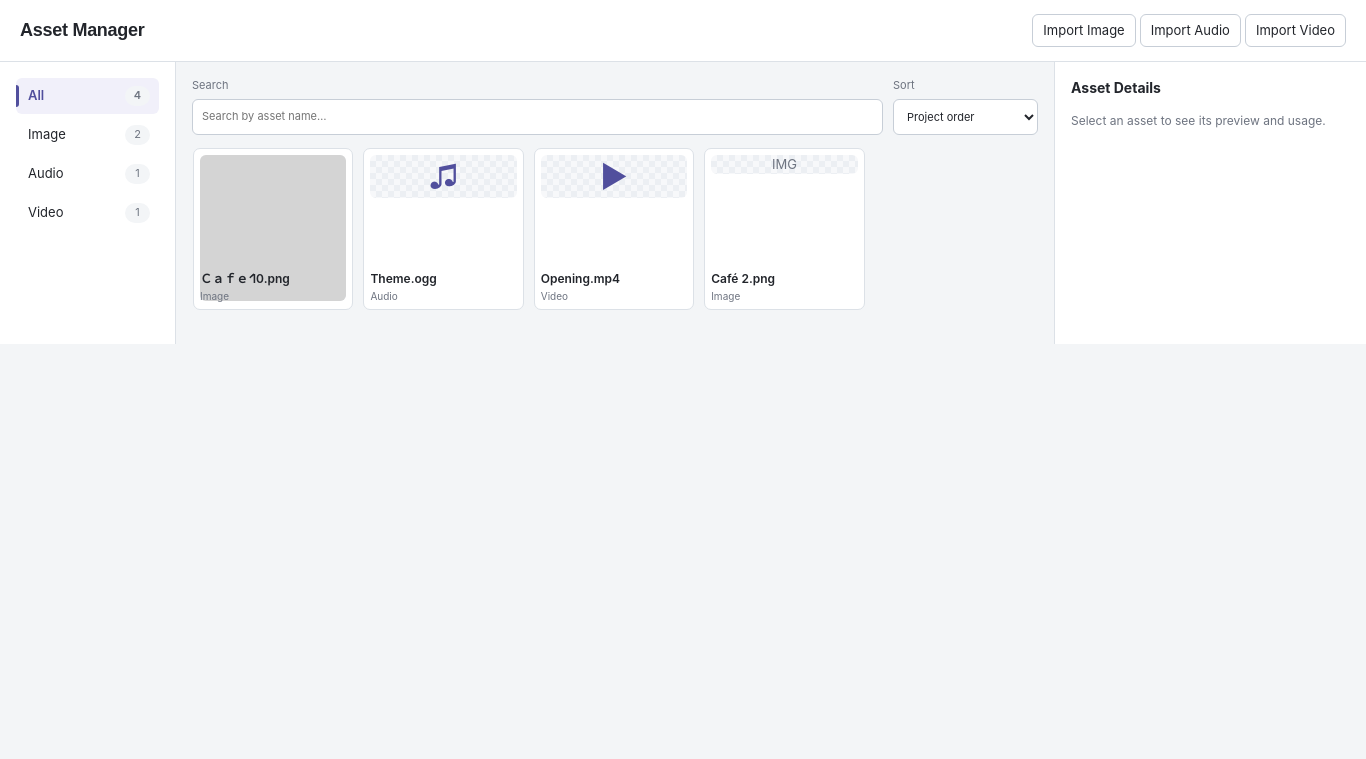
Test case: AssetManager › opens a card context menu at the pointer and focuses the existing rename input
The image size is (1366, 759).
Right-click the button "Ｃａｆｅ́ 10.png Image".
right_click(273, 229)  # box [193,148,353,310]
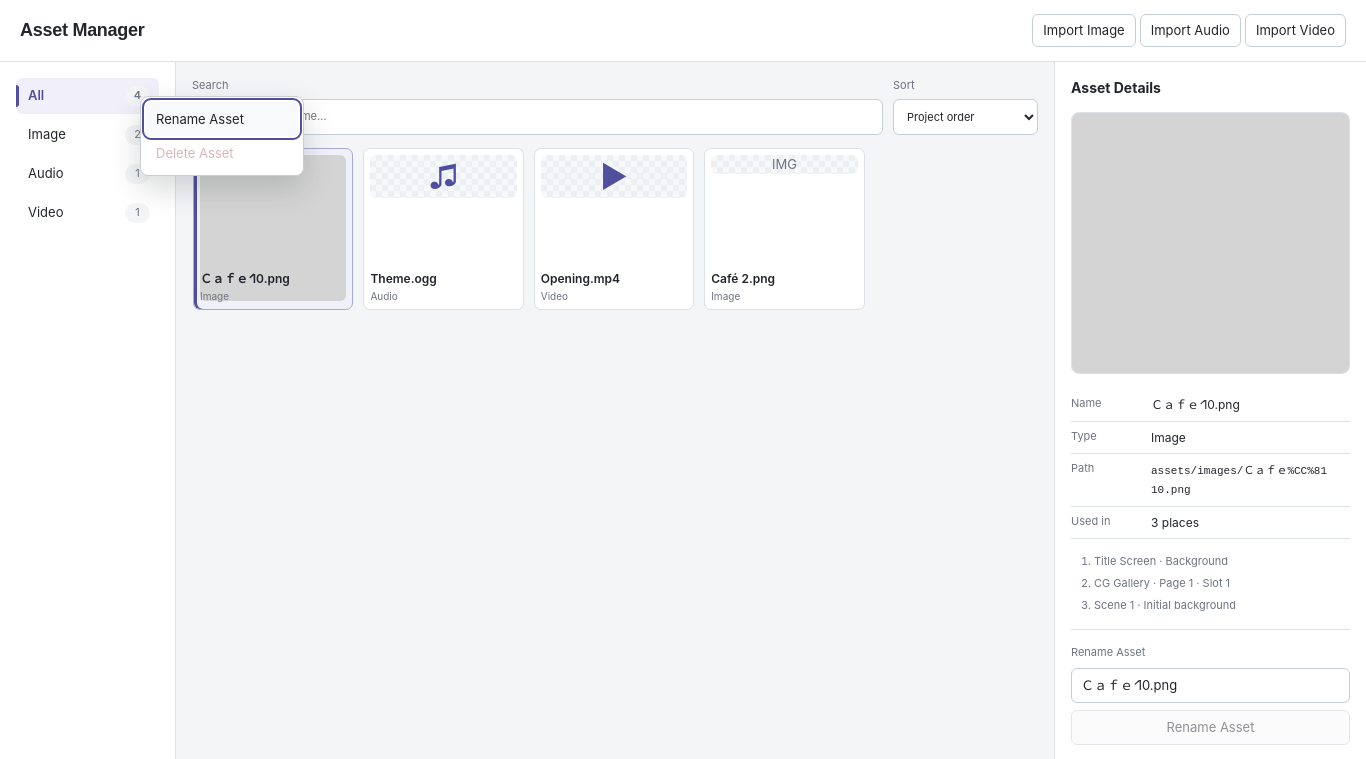
Check: the menu item "Delete Asset" is disabled, box [146,136,298,170]
Click the menu item "Rename Asset".
click(222, 119)  # box [146,102,298,136]
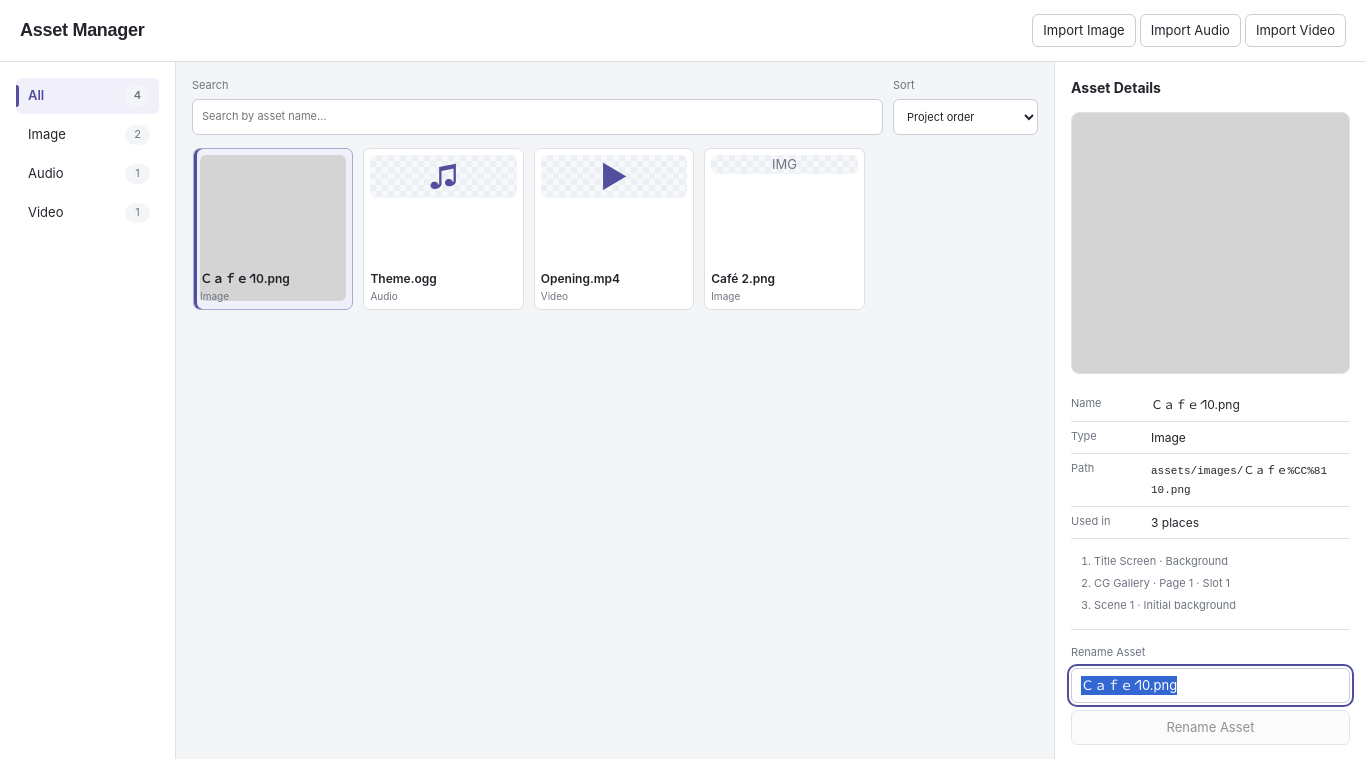
Check: the menu is gone
